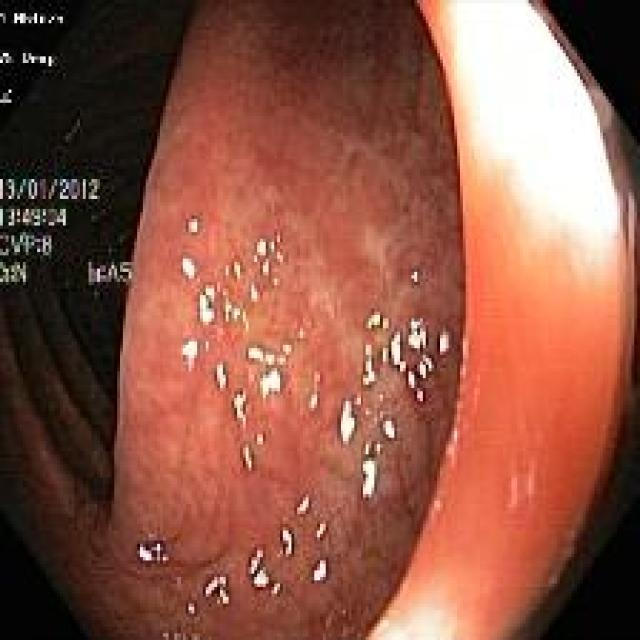ulcerative-colitis-grade-1: (116, 3, 462, 638)
